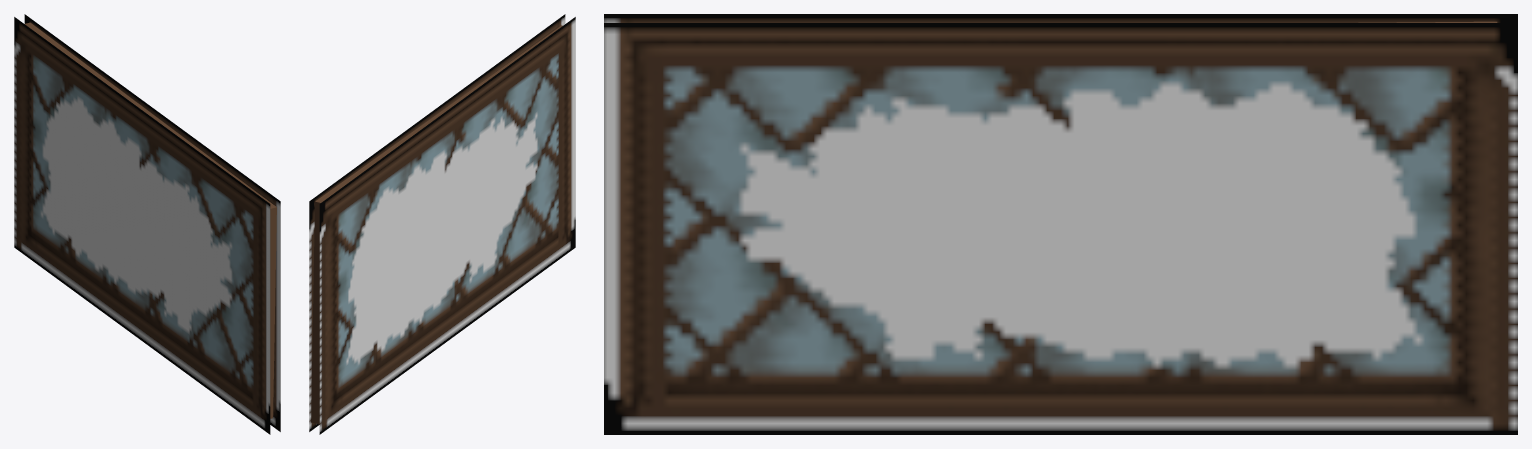
Rendered from pz_native_fixtures_windows_church_76_frame.obj.
3 views of the same model, side by side, from view 1: azimuth 30°, elevation 25°; view 2: azimuth 150°, elevation 25°; view 3: azimuth 270°, elevation 25° (orthographic). The views are drawn at different scales.
Visible parts, largest first — view 1: pz_native_fixtures_windows_church_76_frame; view 2: pz_native_fixtures_windows_church_76_frame; view 3: pz_native_fixtures_windows_church_76_frame.
Boxes of the visible parts, bbox=[...] form: pz_native_fixtures_windows_church_76_frame: bbox=[14, 14, 280, 434]; pz_native_fixtures_windows_church_76_frame: bbox=[309, 14, 575, 434]; pz_native_fixtures_windows_church_76_frame: bbox=[604, 14, 1517, 434].
Size of the model in its own units: 0.04 by 0.8438 by 1.7.
1 material, 1 textured.
